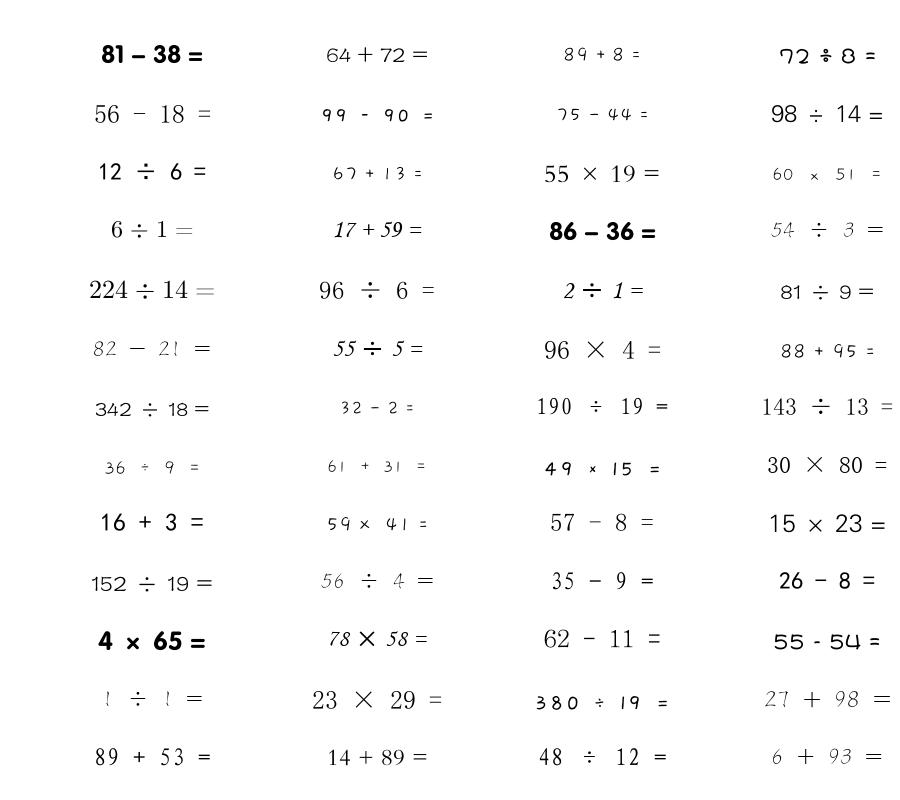MQ: (89, 280, 215, 299), (536, 397, 668, 415), (312, 691, 442, 709), (538, 748, 667, 766), (761, 398, 893, 415), (768, 514, 886, 533), (94, 104, 211, 123), (544, 629, 661, 648), (98, 631, 206, 651), (764, 691, 891, 708), (549, 221, 656, 241), (544, 341, 661, 359), (94, 748, 211, 766), (544, 165, 660, 183), (319, 281, 435, 299), (101, 44, 203, 64), (767, 456, 887, 473), (534, 695, 670, 710), (771, 105, 884, 123), (91, 576, 213, 592), (93, 341, 211, 357), (100, 513, 204, 531), (550, 513, 654, 531), (550, 572, 654, 590), (98, 163, 206, 180), (771, 222, 884, 238), (321, 573, 434, 589), (771, 748, 883, 764), (326, 46, 428, 63), (773, 634, 881, 650), (327, 749, 428, 766), (95, 402, 209, 417), (543, 462, 662, 476), (326, 516, 428, 532), (779, 572, 875, 589), (102, 691, 203, 707), (327, 631, 427, 647), (772, 167, 883, 181), (779, 48, 876, 64), (332, 221, 422, 238), (780, 343, 875, 359), (320, 109, 435, 122), (111, 220, 194, 238), (332, 340, 423, 356), (780, 285, 874, 300), (562, 282, 643, 299), (332, 166, 423, 181), (104, 461, 201, 475), (556, 108, 649, 122), (327, 460, 427, 473), (563, 47, 641, 62), (339, 401, 415, 415)
